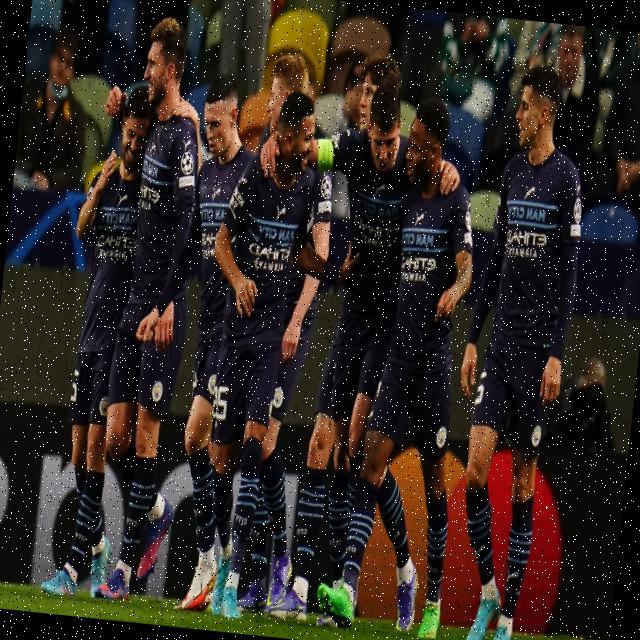Etihad Airways: (351, 213, 400, 248), (94, 227, 139, 265), (504, 227, 547, 263), (246, 240, 291, 273), (396, 250, 438, 284), (135, 182, 161, 214), (197, 229, 216, 260)
Puma: (210, 179, 224, 204), (371, 180, 387, 201), (114, 190, 129, 210), (274, 200, 288, 221), (413, 207, 427, 228), (179, 134, 193, 154), (470, 543, 484, 559), (147, 137, 157, 157), (524, 185, 536, 201), (506, 569, 519, 582), (463, 199, 470, 211), (574, 183, 580, 196)
